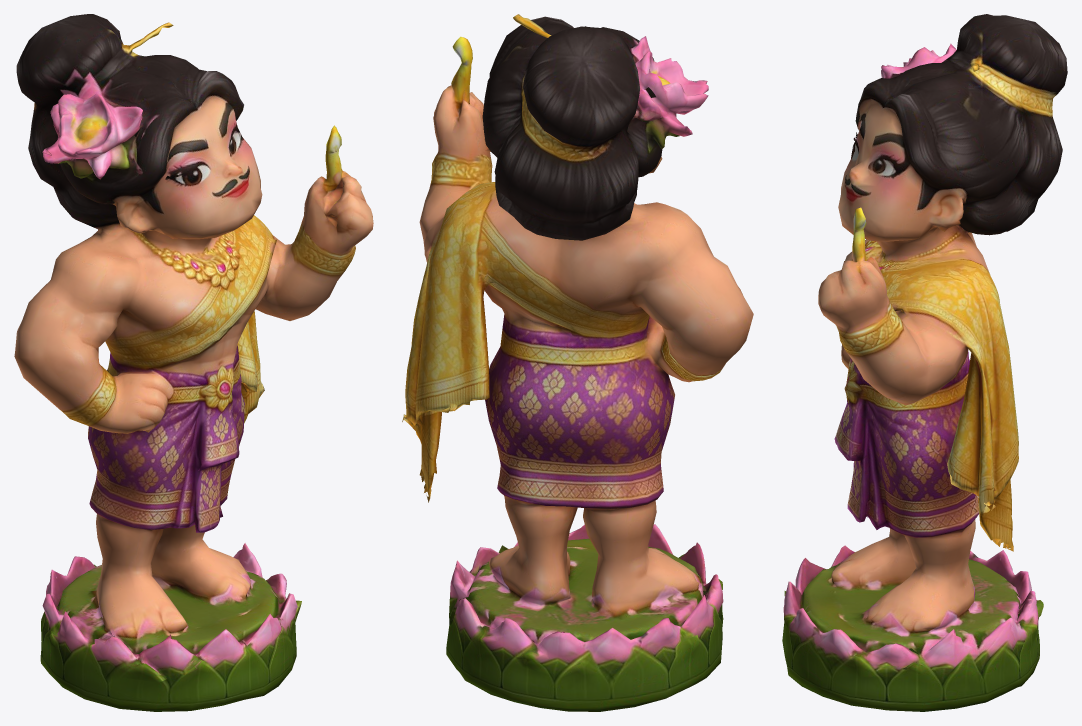
The model's file is kty.glb.
3 views of the same model, side by side, from view 1: azimuth 30°, elevation 25°; view 2: azimuth 150°, elevation 25°; view 3: azimuth 270°, elevation 25° (orthographic). The views are drawn at different scales.
Parts seen in each view (by area): view 1: tripo_node_5c2f0078-c4d6-4970-bbbf-da319d8d882b; view 2: tripo_node_5c2f0078-c4d6-4970-bbbf-da319d8d882b; view 3: tripo_node_5c2f0078-c4d6-4970-bbbf-da319d8d882b.
Part boxes in pixels (<box>): tripo_node_5c2f0078-c4d6-4970-bbbf-da319d8d882b: <box>14,14,373,711</box>; tripo_node_5c2f0078-c4d6-4970-bbbf-da319d8d882b: <box>402,14,753,711</box>; tripo_node_5c2f0078-c4d6-4970-bbbf-da319d8d882b: <box>782,14,1067,711</box>.
Size of the model in its own units: 0.5371 by 0.9964 by 0.4144.
Materials: 1 (1 with a texture image).
